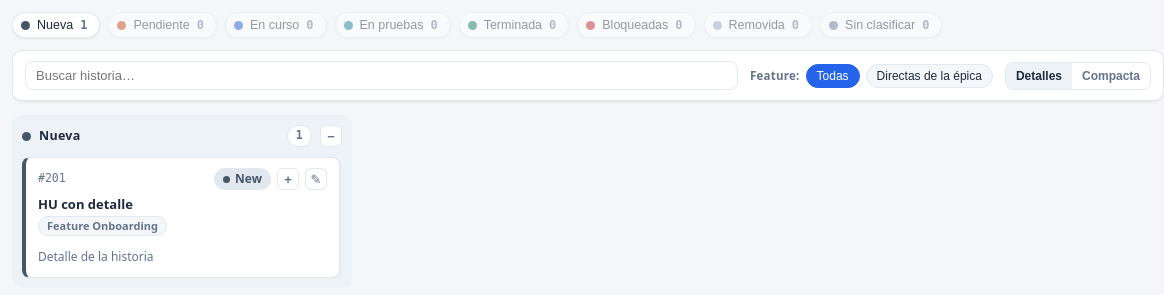
Scenario: TableroHistorias › alterna a modo compacto sin descripciones recortadas
Expected: the text "Detalle de la historia" is shown, [38,248,154,265]
Click the button "Compacta". click: (1111, 76)
box: [1072,62,1150,88]
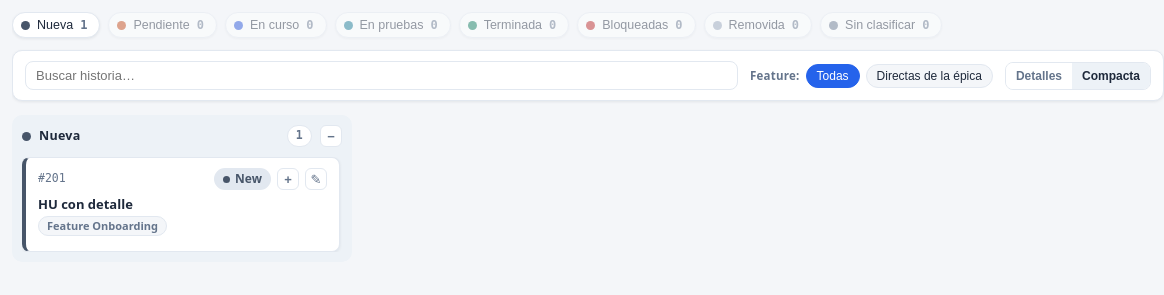
Expected: the text "Detalle de la historia" is gone
